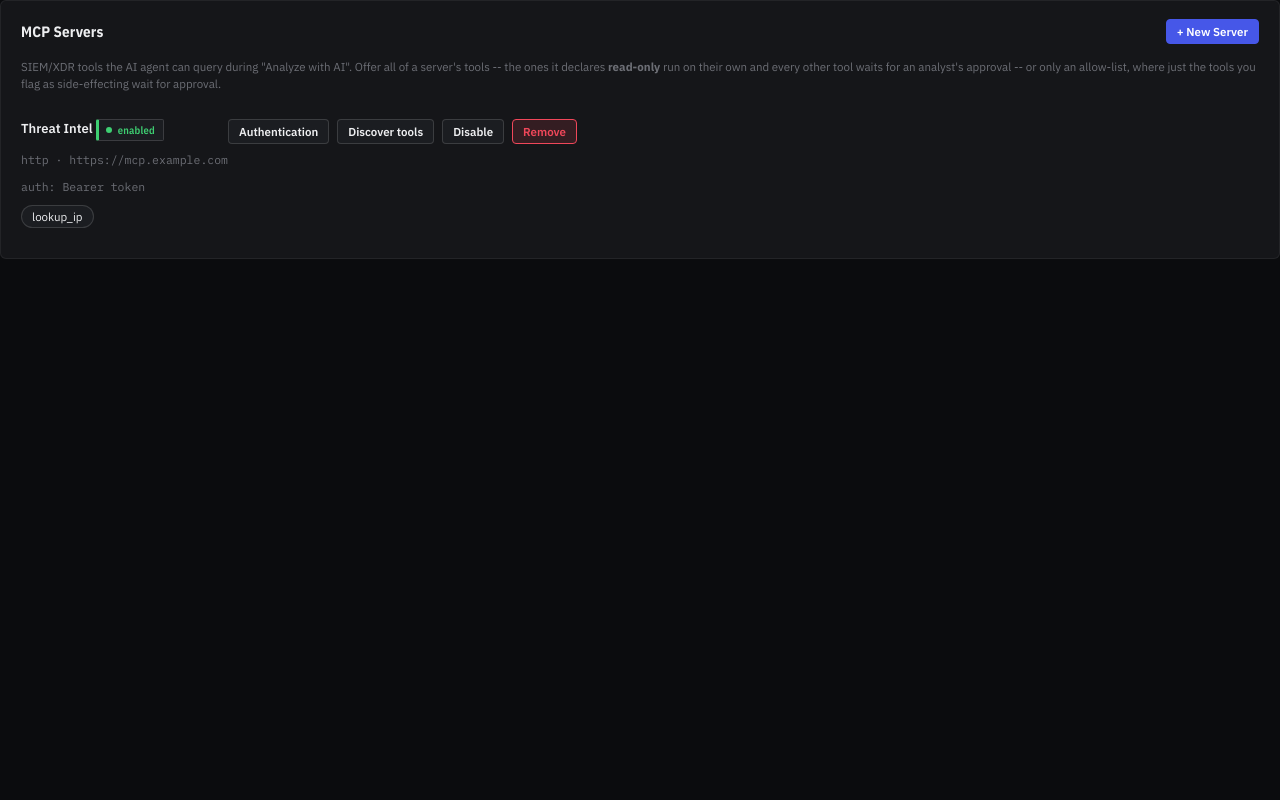
it: editing a saved server's authentication › shows the server's error message when the save is rejected
Step 1. Click the button "Authentication" → (279, 131), box [228,118,329,144]
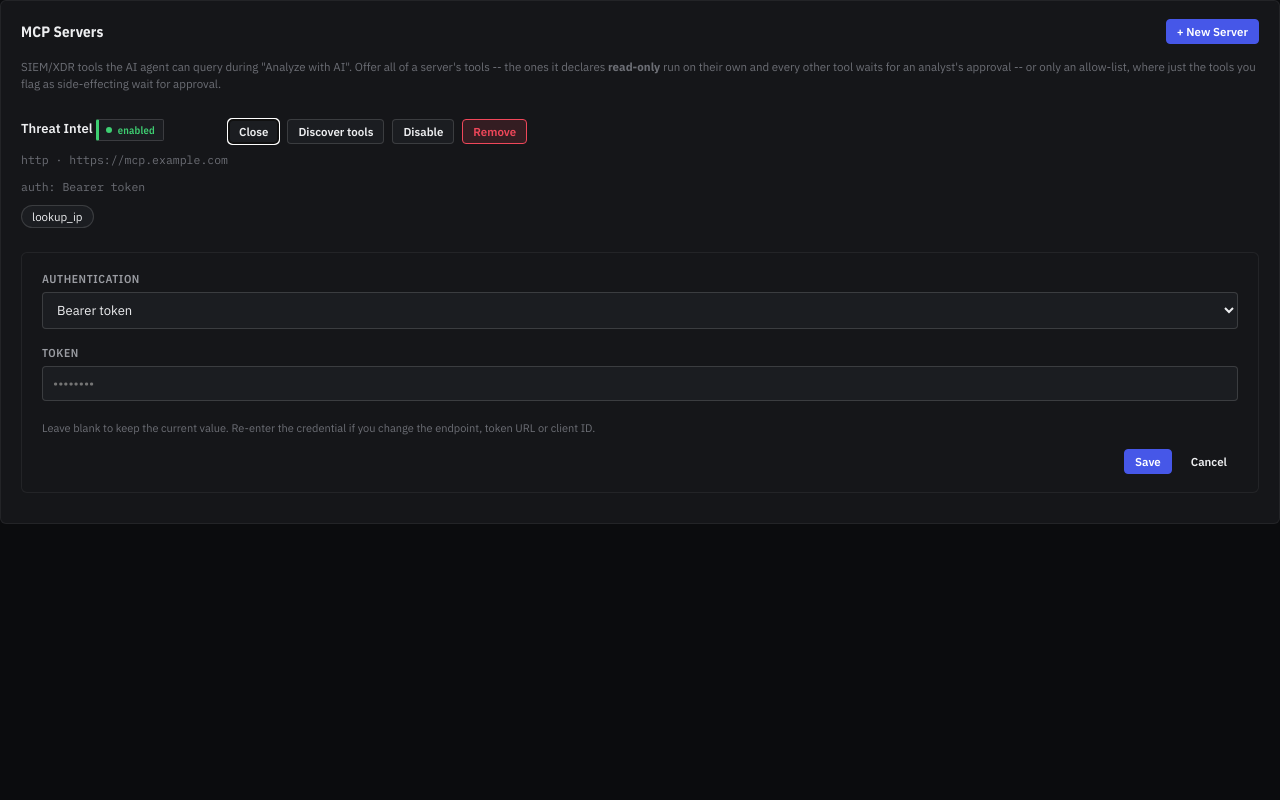
Step 2. Type "x" into the password field labelled "Token" → (640, 384), box [42,366,1238,401]
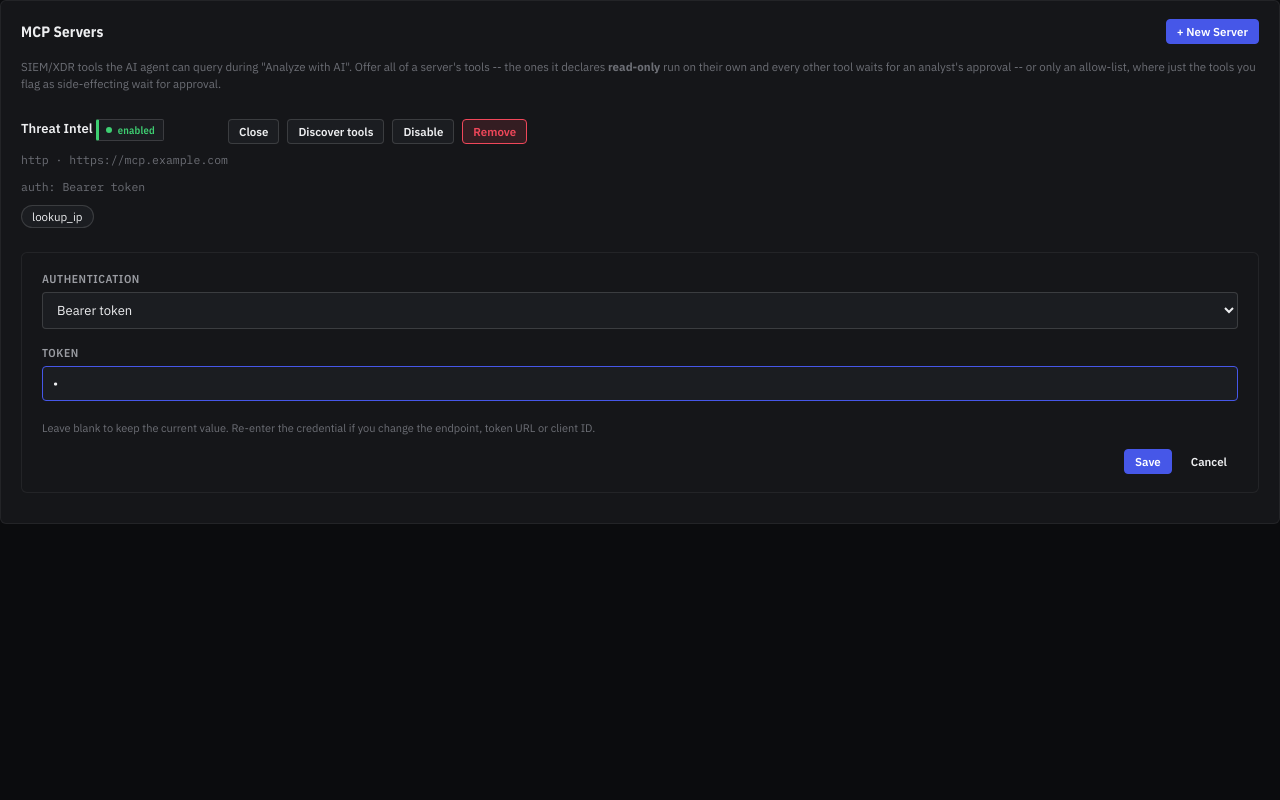
Step 3. Click the button "Save" → (1148, 462), box [1124,449,1172,474]
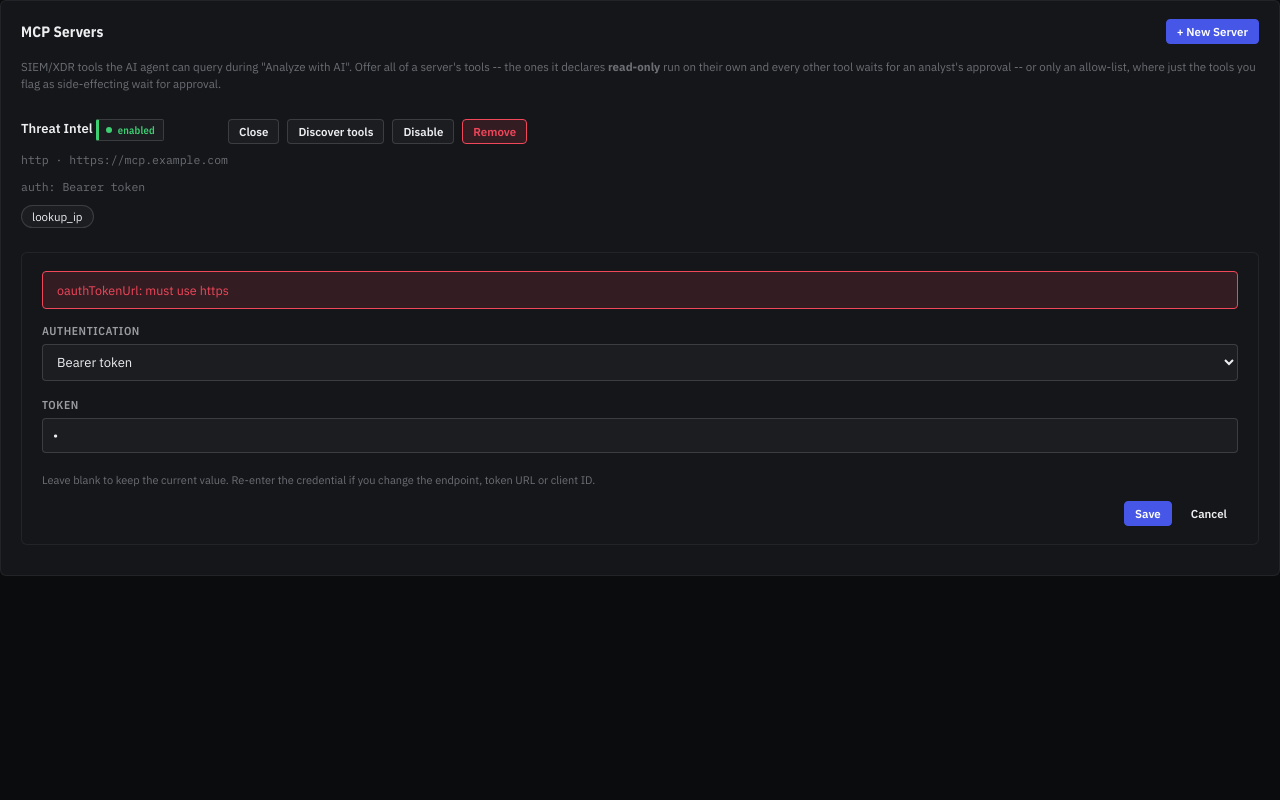
Now the text "oauthTokenUrl: must use https" is shown, box [42,271,1238,309]
